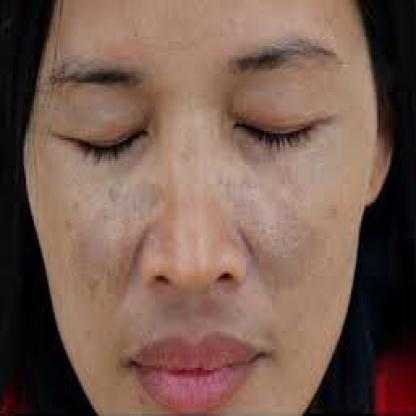darkspot: (226, 186, 336, 315), (61, 237, 128, 308), (75, 177, 165, 223)
